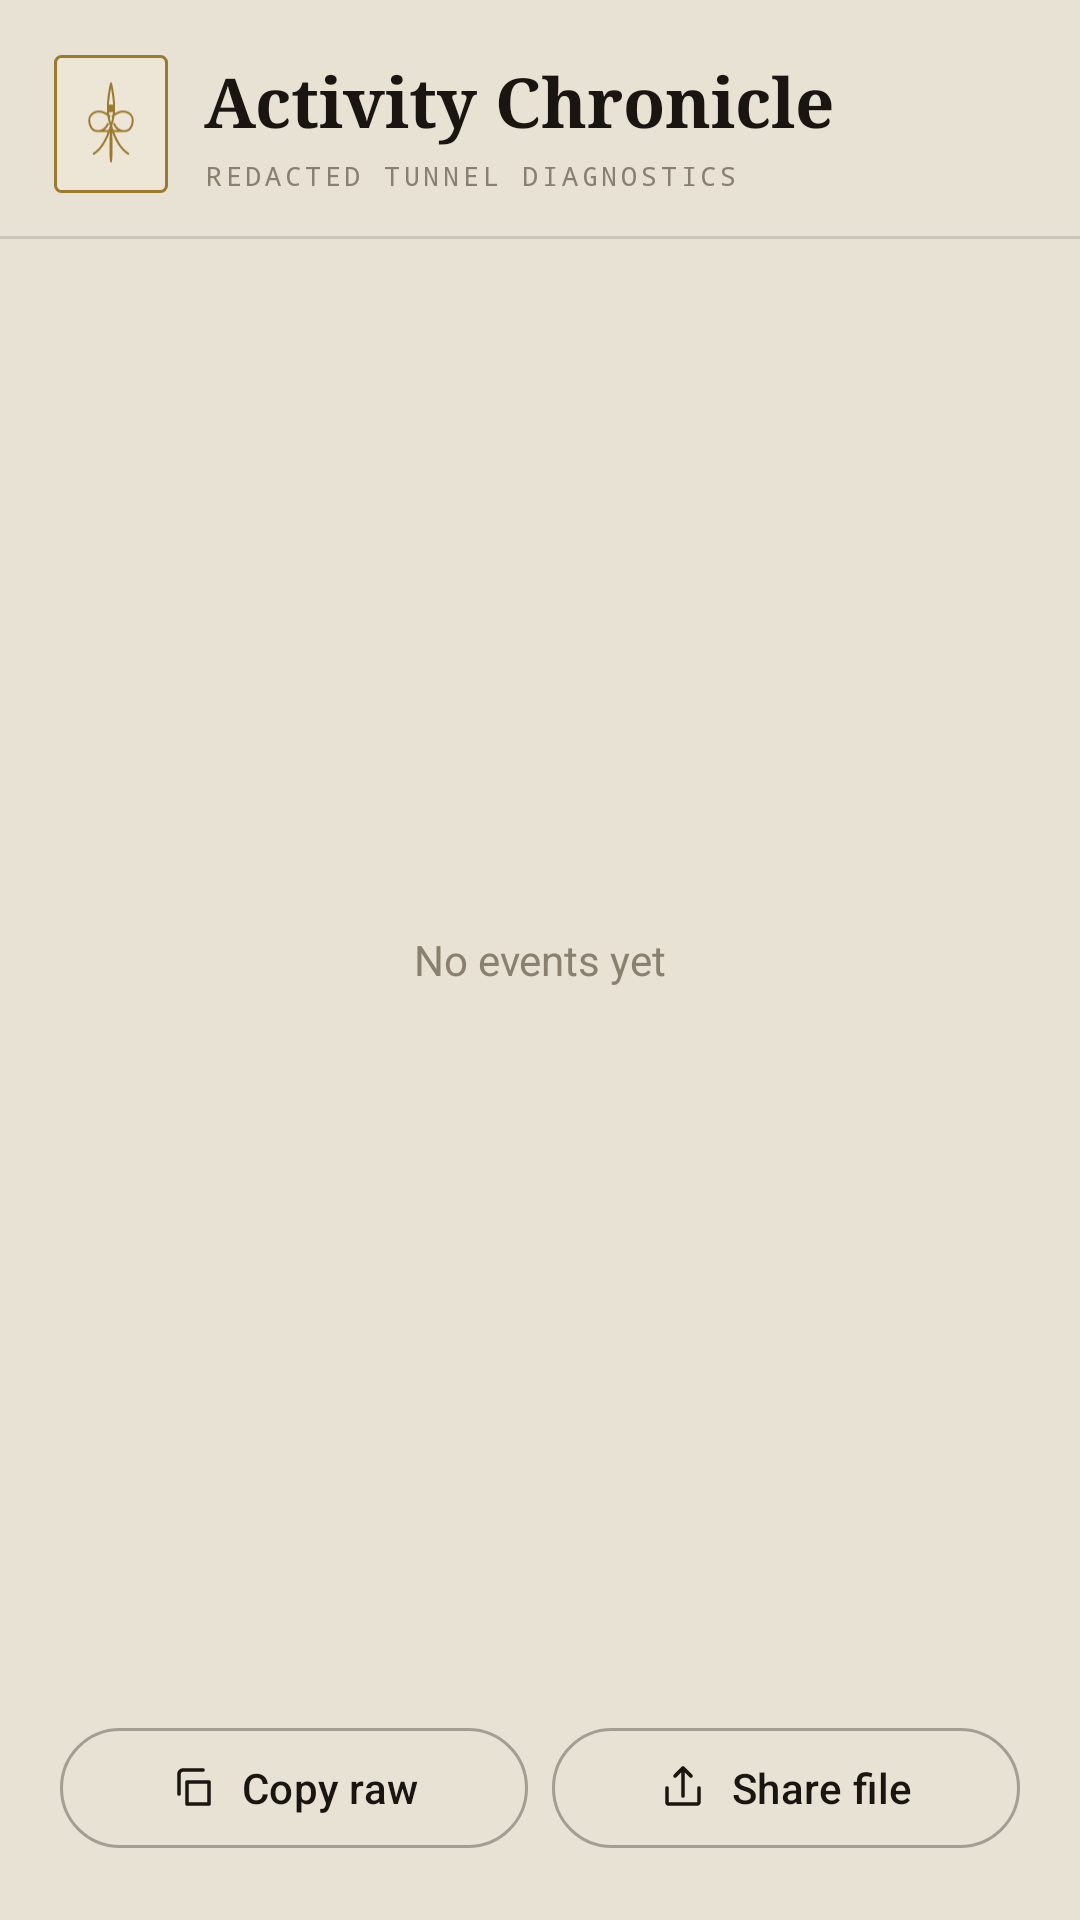

Screen size 1080 × 1920. Icon name, then its box in pixels as {"left": x1, "top": y1, "right": x2, "bottom": y2}:
VL fleur-de-lis: {"left": 88, "top": 82, "right": 134, "bottom": 163}
